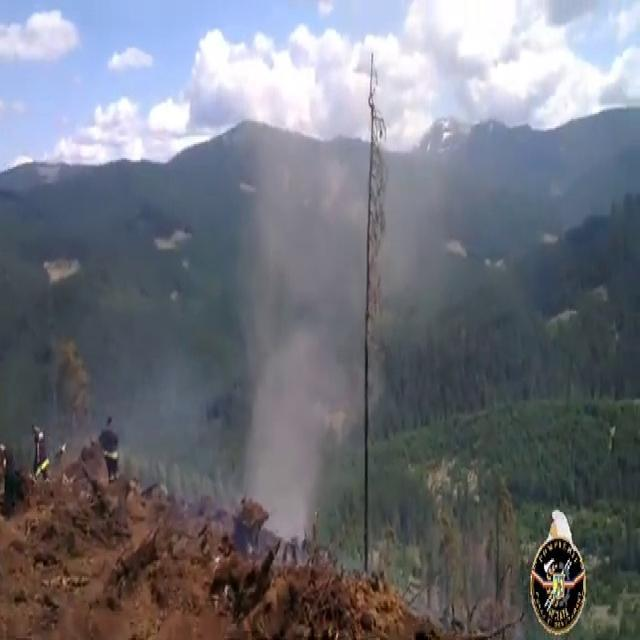Smoke: (198, 59, 474, 580)
